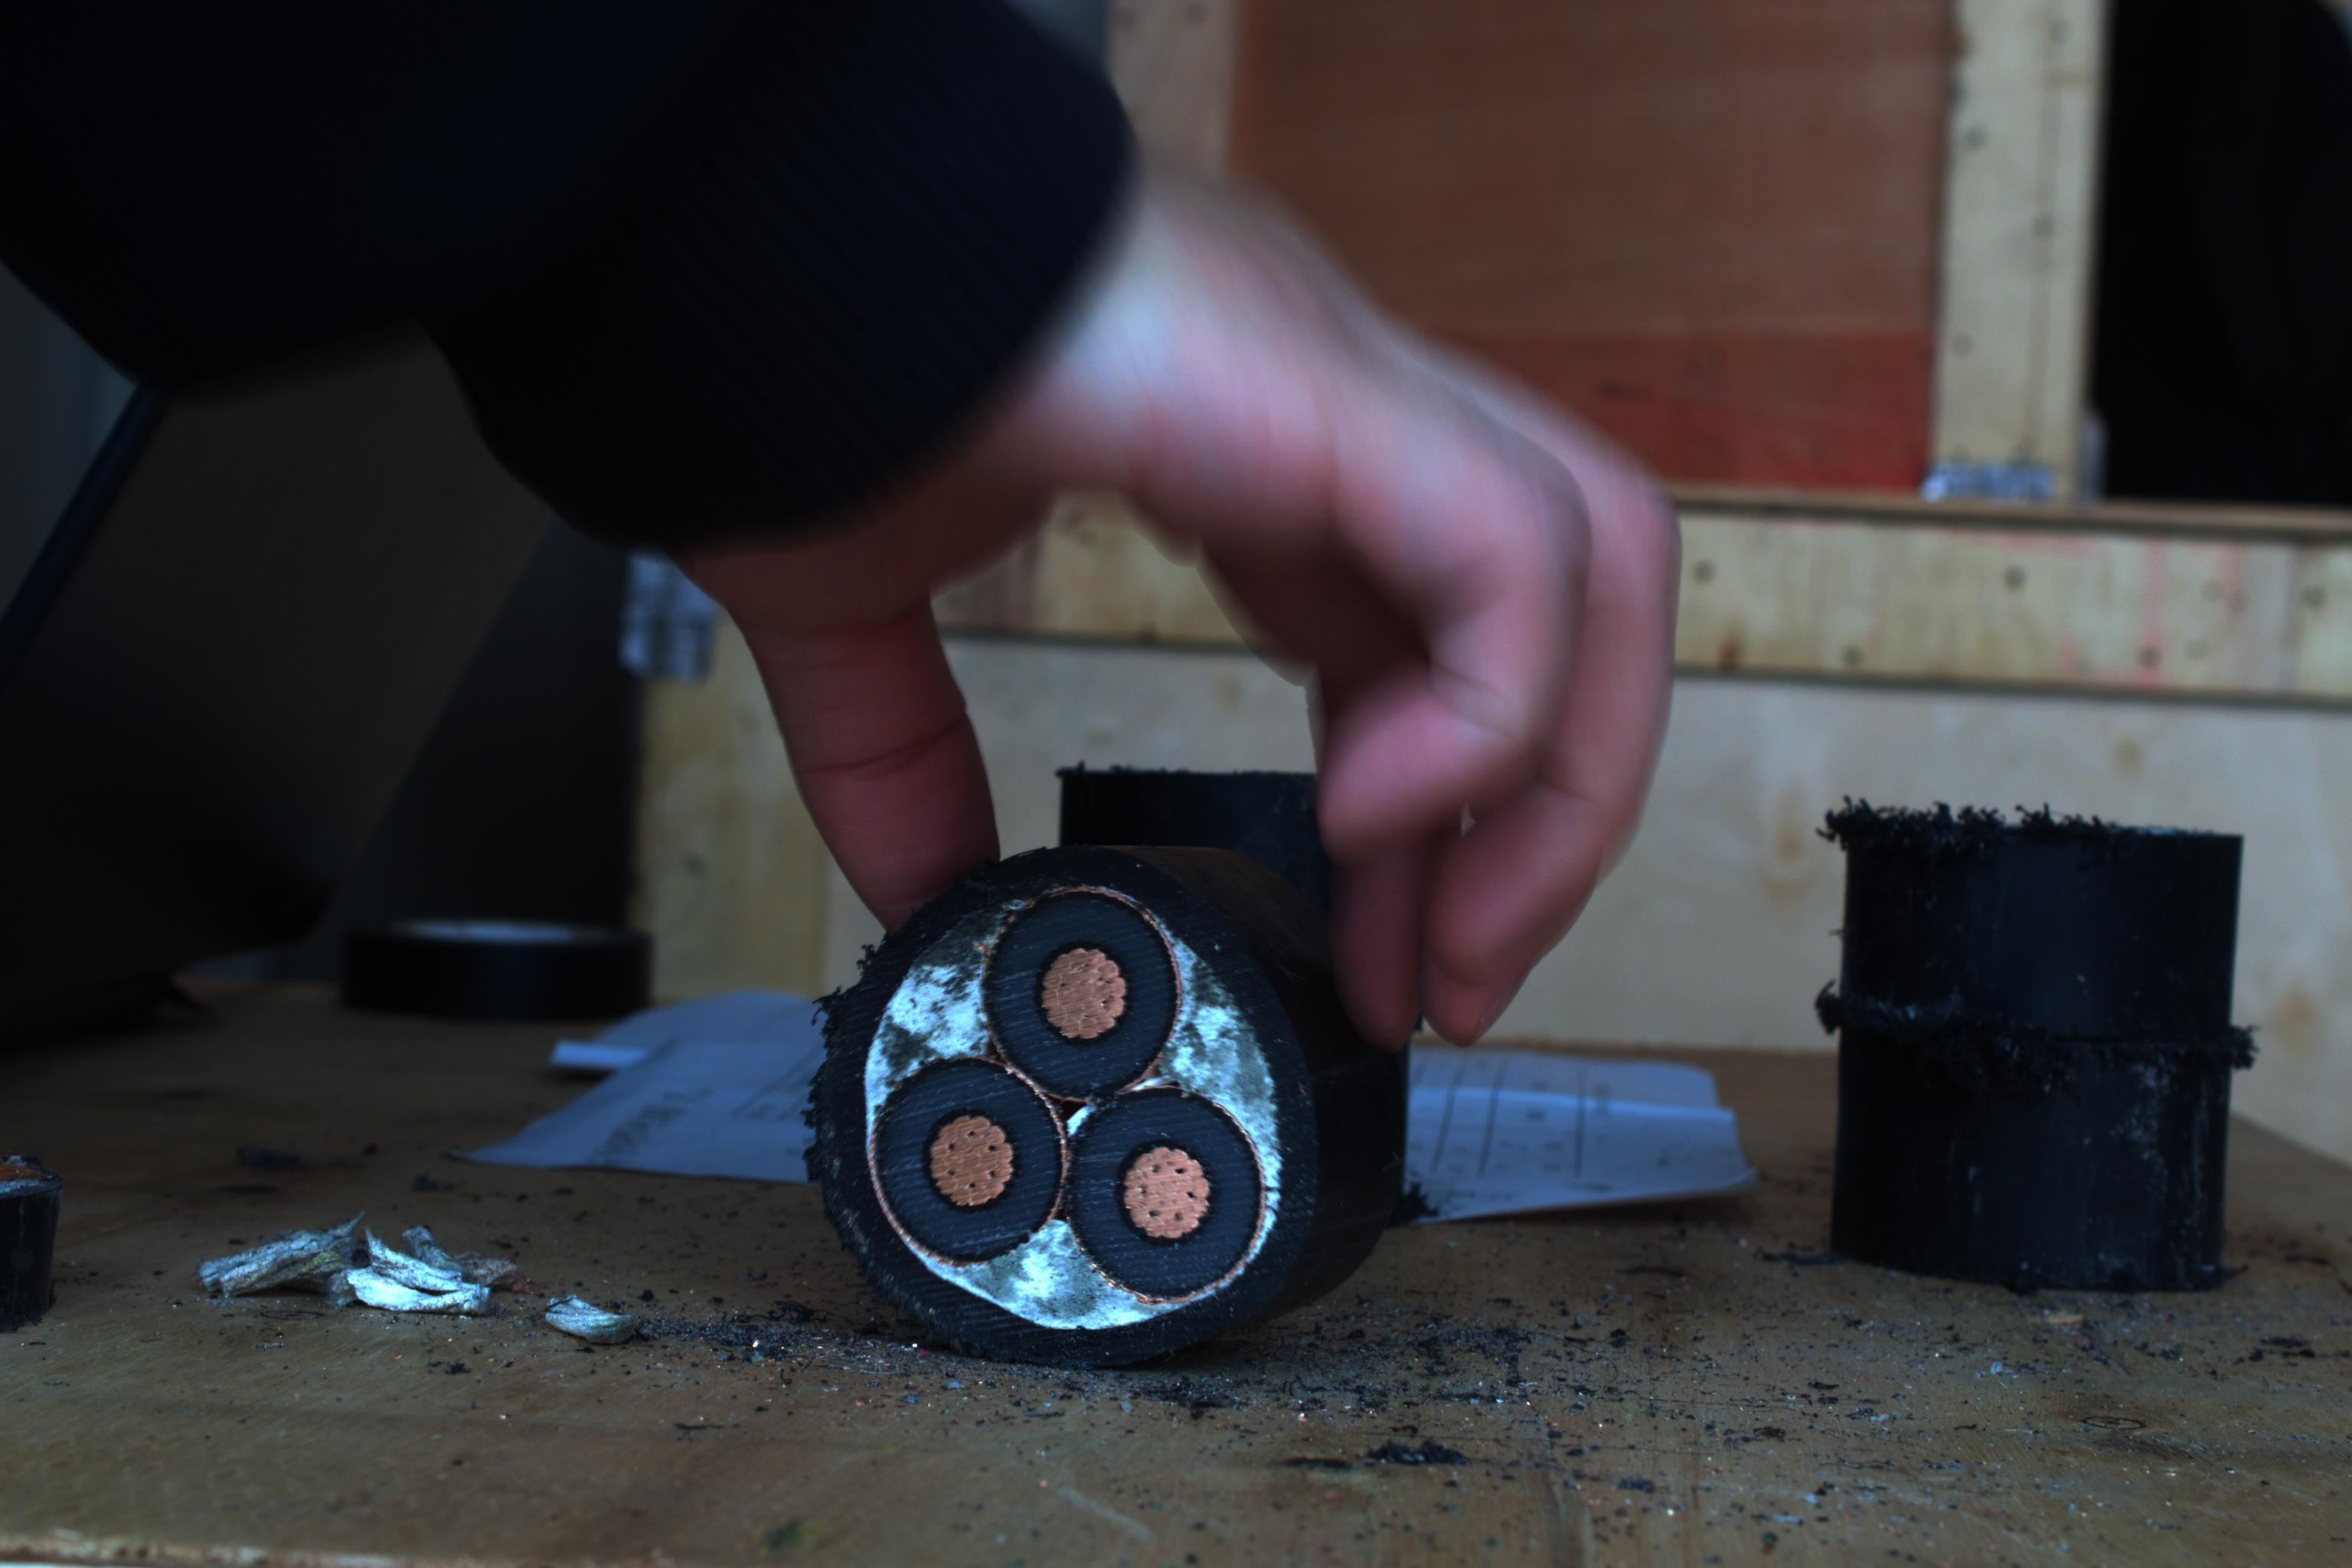YJV_8.7_10kV_3x70: (826, 871, 1332, 1365)
